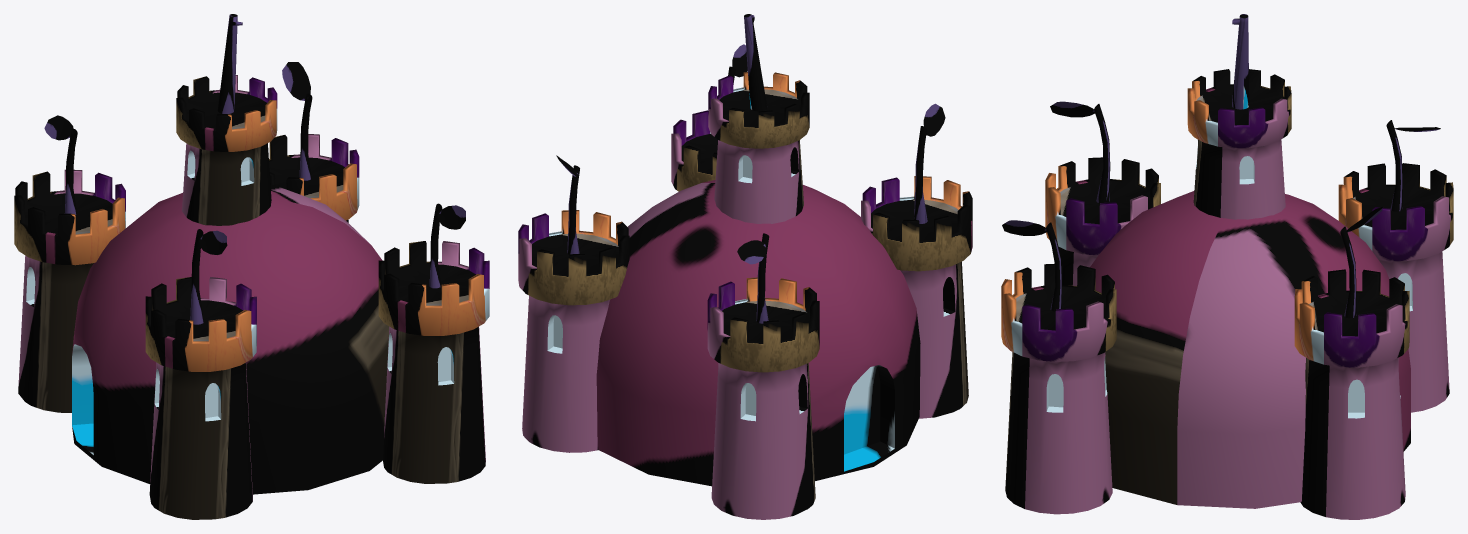
The model's file is Castillo_8.fbx.
The picture shows the model from 3 angles, left to right: view 1: azimuth 30°, elevation 25°; view 2: azimuth 150°, elevation 25°; view 3: azimuth 270°, elevation 25°; orthographic projection. The views are drawn at different scales.
Parts seen in each view (by area): view 1: pCylinder58; view 2: pCylinder58; view 3: pCylinder58.
Part boxes in pixels (<box>): pCylinder58: <box>14,14,489,519</box>; pCylinder58: <box>518,14,972,519</box>; pCylinder58: <box>1001,14,1453,519</box>.
Size of the model in its own units: 147 by 179 by 175.
